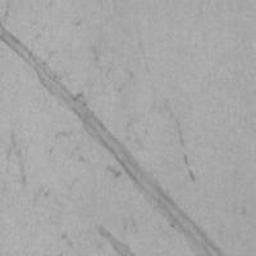Water spot: (13, 18, 256, 256), (119, 223, 165, 256)
